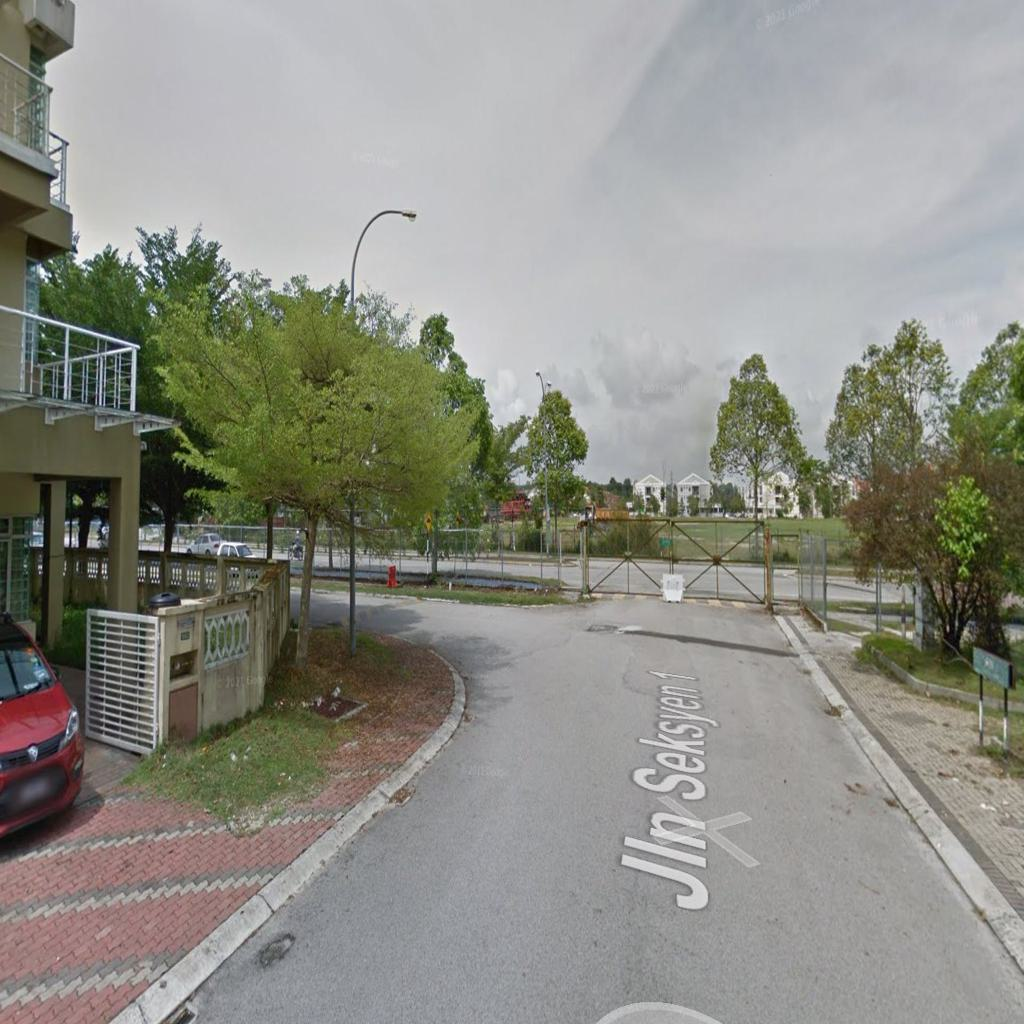Junction: (318, 558, 647, 762)
